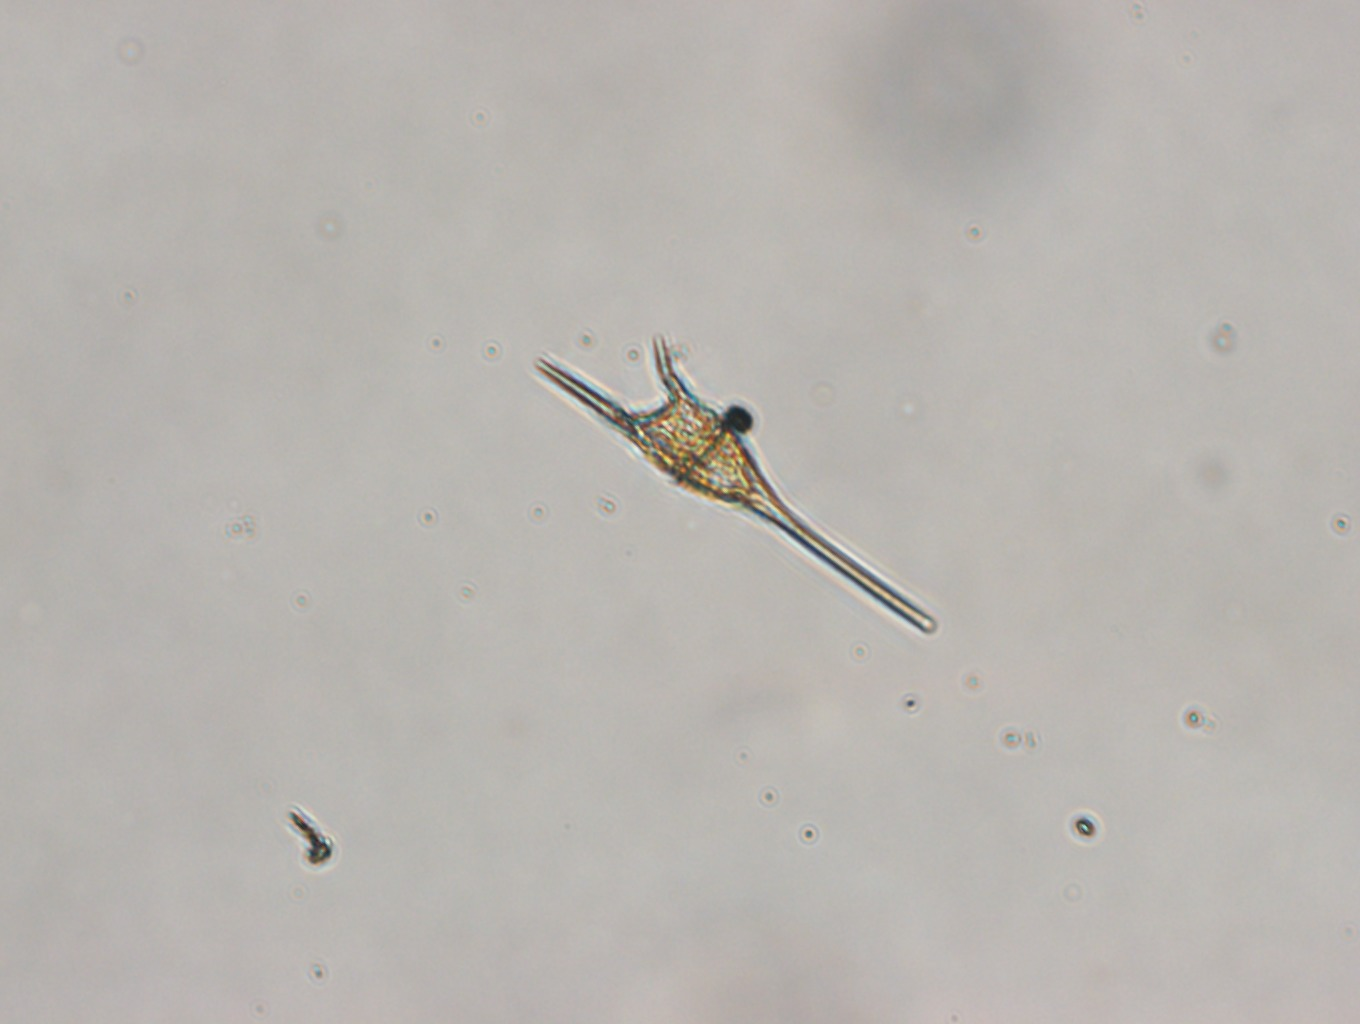ceratium furca: (535, 335, 939, 634)
